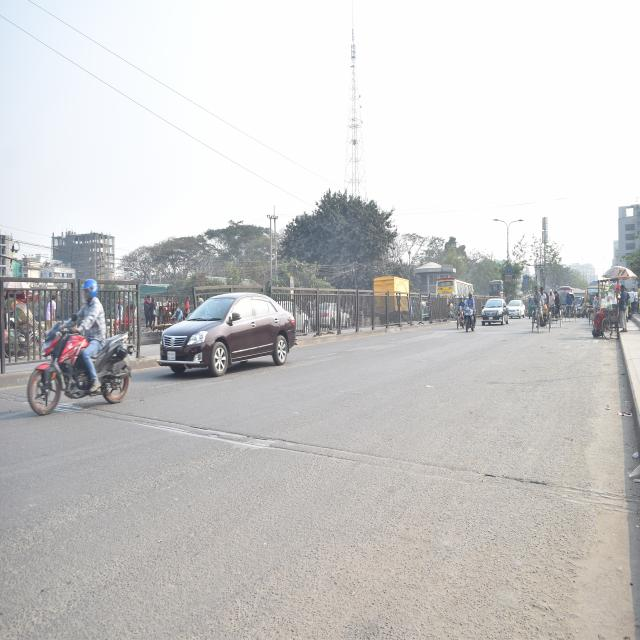bus: (436, 274, 474, 304)
car: (160, 284, 300, 386), (483, 295, 507, 331), (508, 294, 522, 319)
motorbike: (29, 322, 127, 430), (462, 303, 480, 340)
pickup-van: (376, 274, 412, 319)
